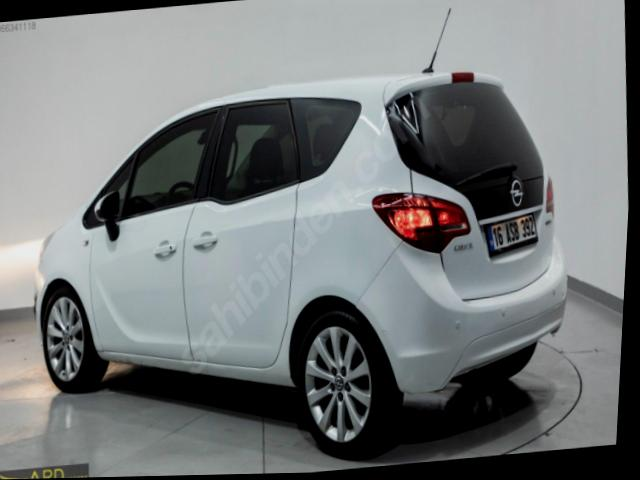plaka: (486, 213, 537, 254)
